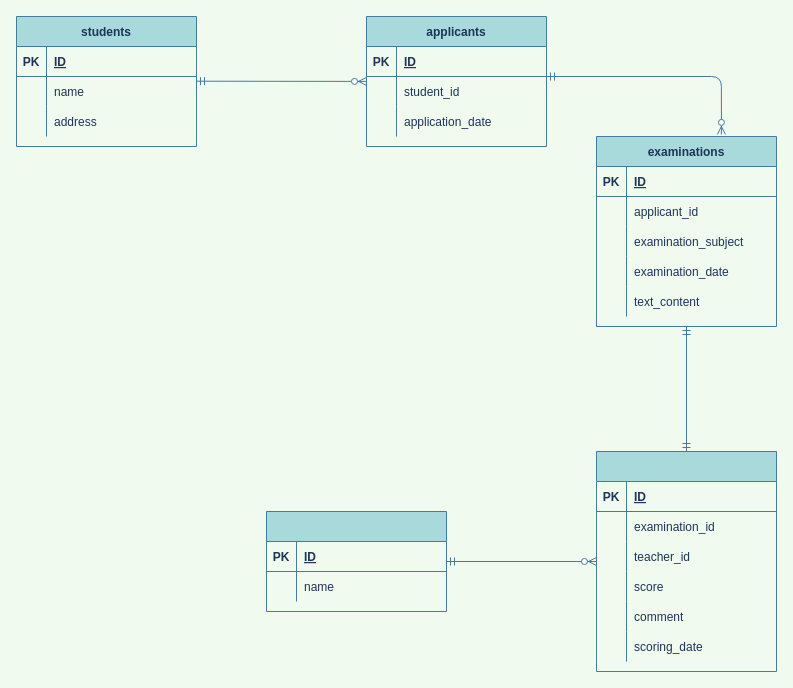
Image size: 793x688. Some labels were removed from this diagram. The shapes that lost their labels are listed below. From the top down, each one's box as (x1, y1, x2, y2) in pixels, then its label:
(266, 510, 446, 612): teachers
(596, 450, 776, 672): scoring_results
